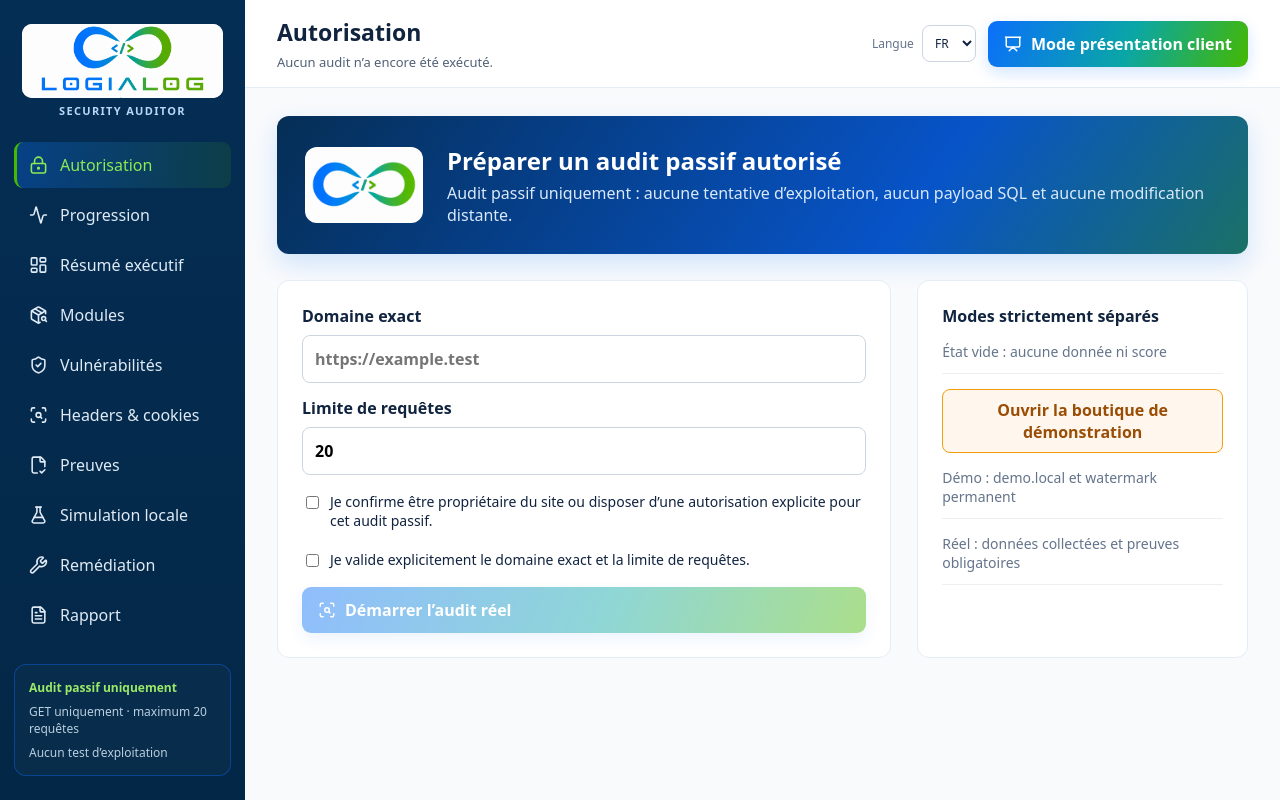
App › shows an explicit blocking warning for an incomplete scan
This screenshot has width=1280, height=800.
Click the button "Ouvrir la boutique de démonstration". click: point(1083, 421)
box: [942, 389, 1223, 453]
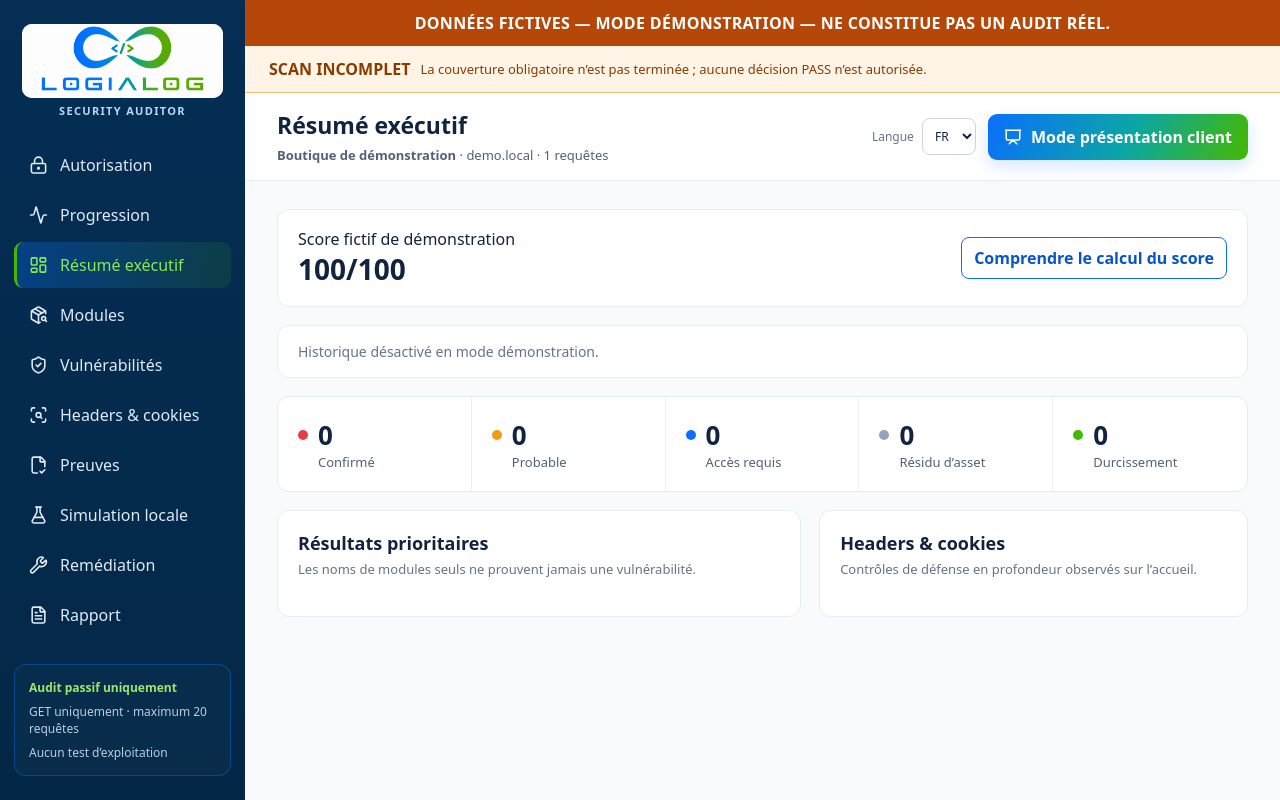
Check: the message shows "SCAN INCOMPLET", box [269, 58, 410, 80]
Check: the message shows "aucune décision PASS", box [420, 60, 927, 78]
